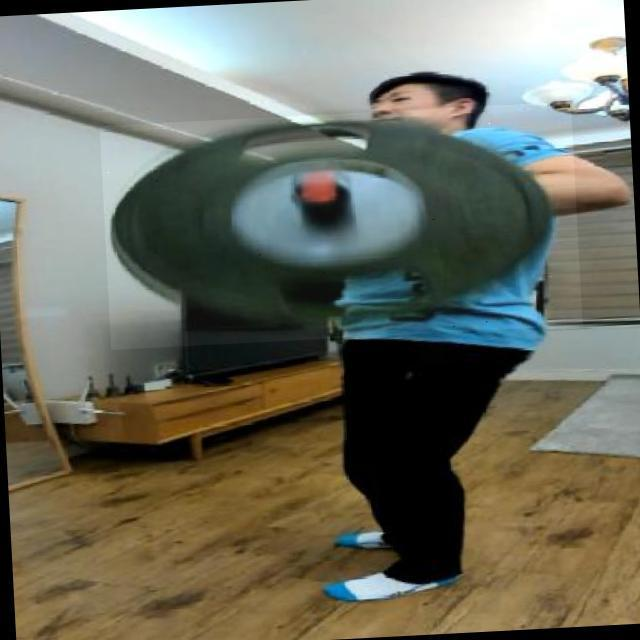barbell: (101, 103, 584, 351)
